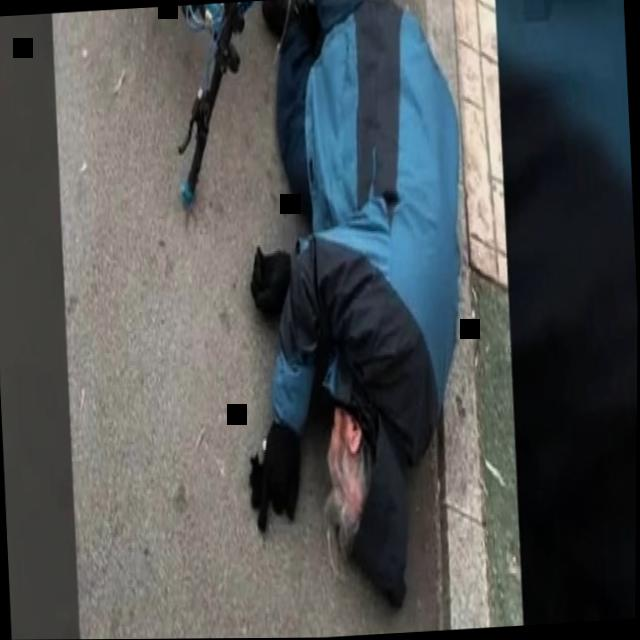Fall-Detected: (223, 0, 478, 638)
